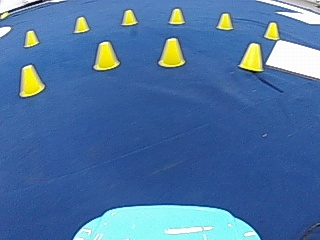cone: (157, 37, 186, 67), (18, 63, 44, 96), (92, 40, 120, 70), (238, 42, 264, 71), (216, 12, 233, 30), (263, 21, 279, 39), (23, 29, 39, 47), (168, 7, 184, 24), (73, 16, 89, 33), (121, 9, 137, 25)
